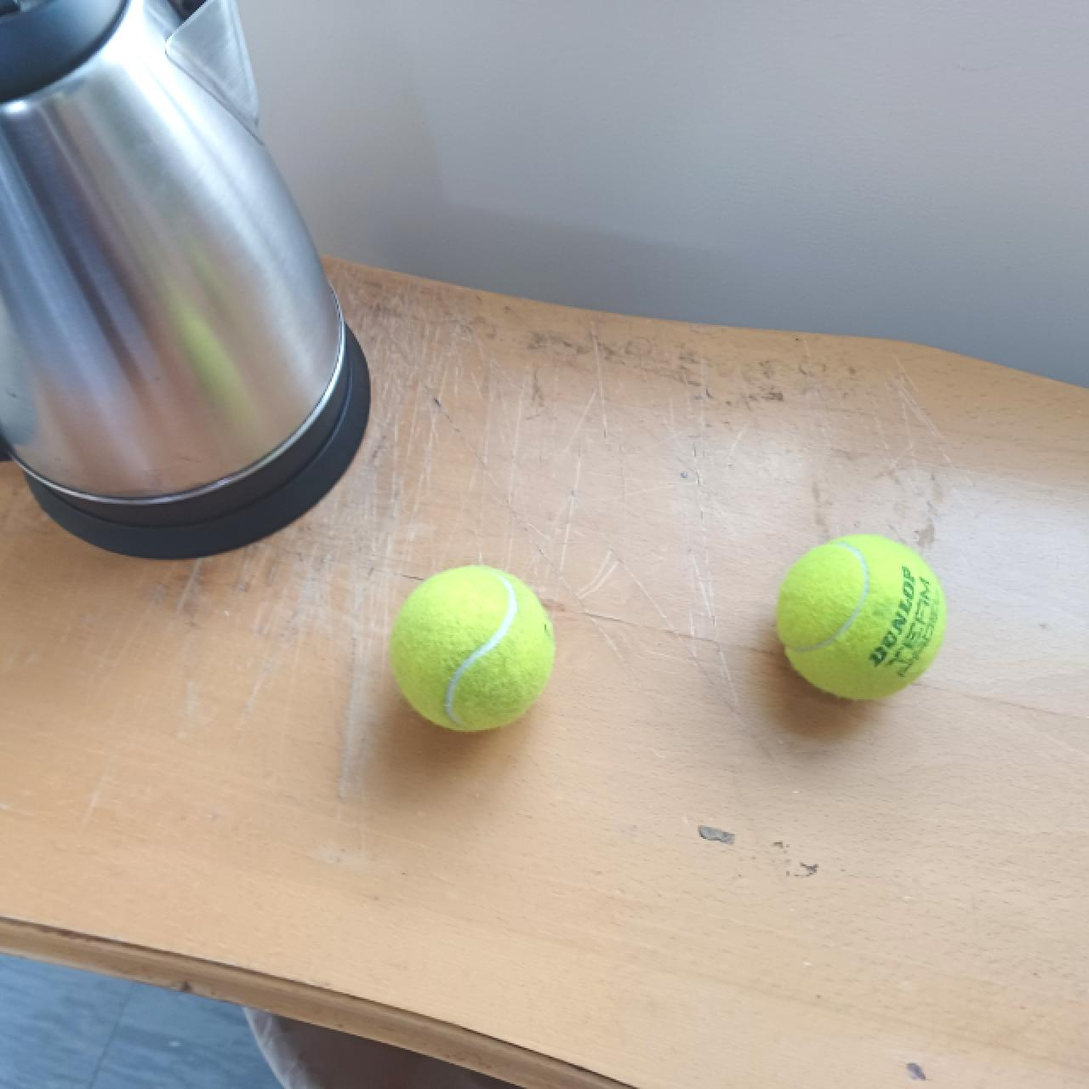tennis-ball: (773, 532, 953, 701), (391, 566, 558, 736)
